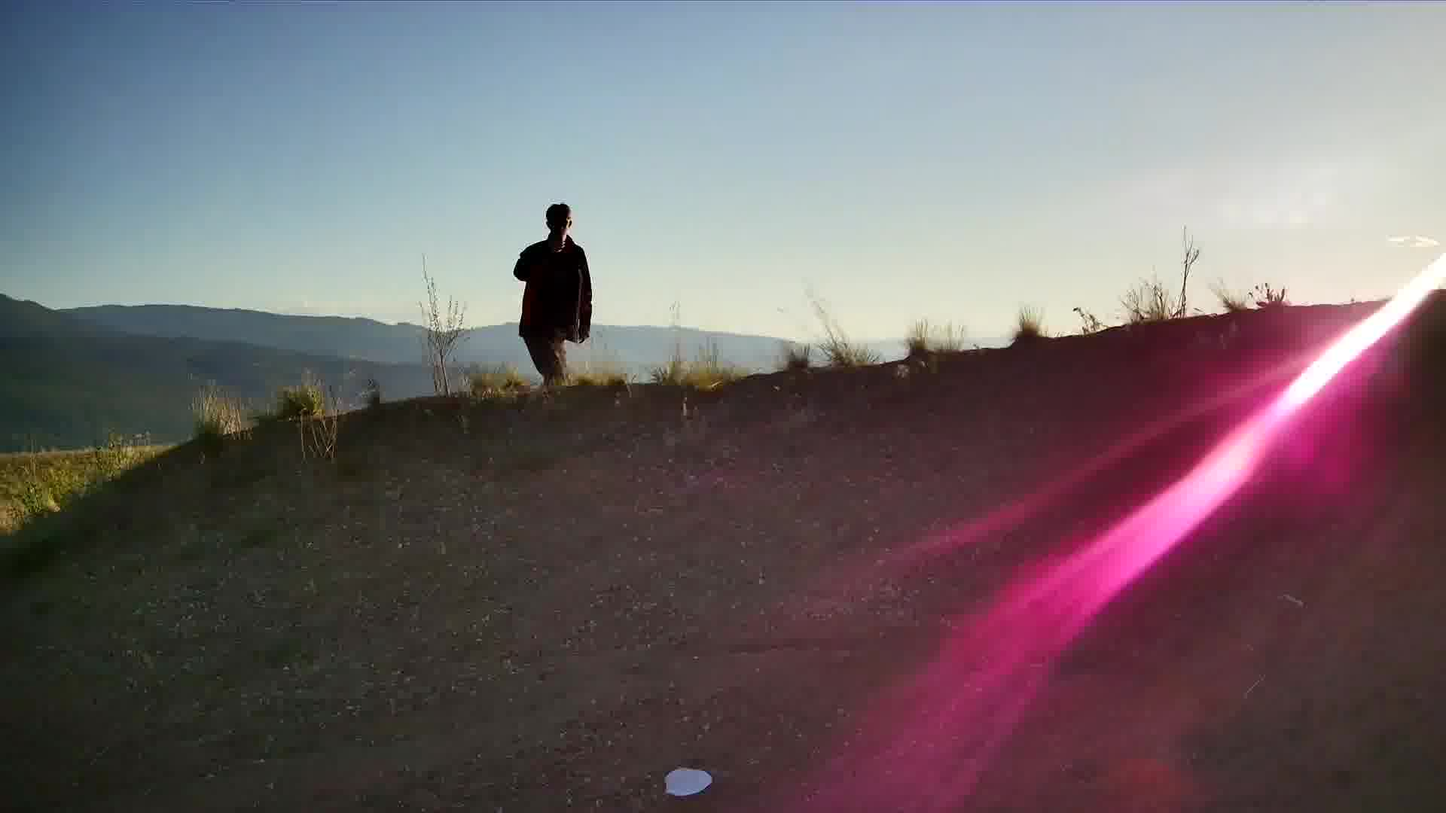Target: (665, 766, 709, 795)
